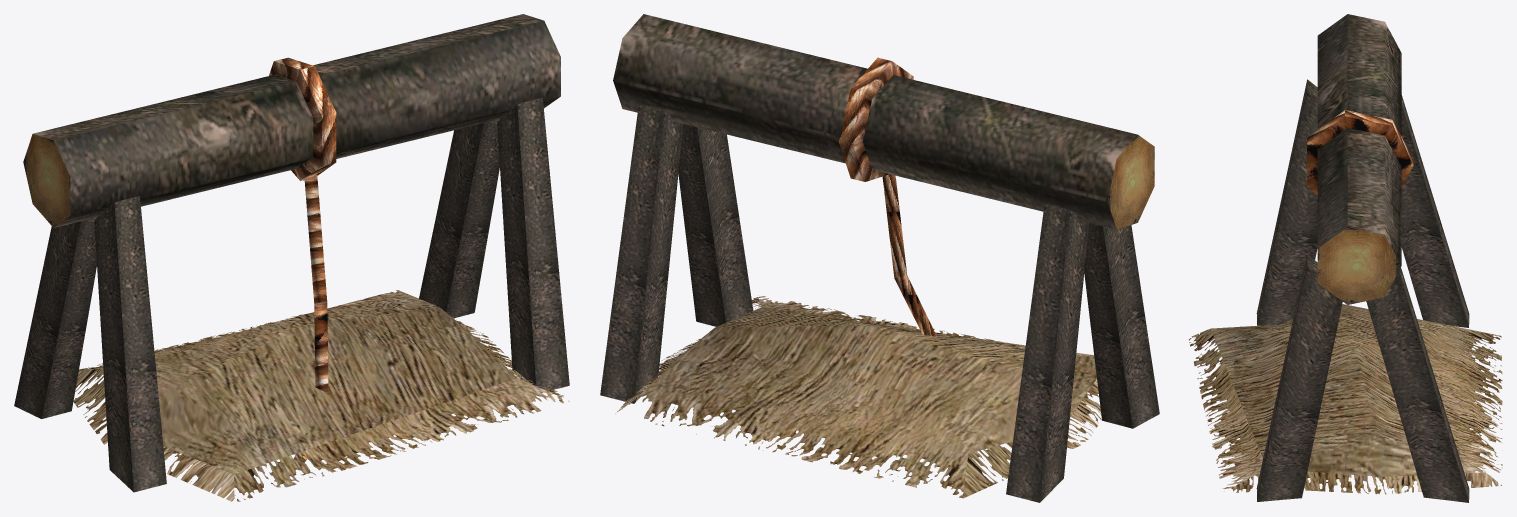
The model's file is building_ox_tether.glb.
The picture shows the model from 3 angles, left to right: view 1: azimuth 30°, elevation 25°; view 2: azimuth 150°, elevation 25°; view 3: azimuth 270°, elevation 25°; orthographic projection. The views are drawn at different scales.
Visible parts, largest first — view 1: building_ox_tether; view 2: building_ox_tether; view 3: building_ox_tether.
Part boxes in pixels (x1=…): building_ox_tether: x1=14, y1=14, x2=569, y2=501; building_ox_tether: x1=600, y1=14, x2=1159, y2=502; building_ox_tether: x1=1189, y1=14, x2=1502, y2=502.
Bounding box in the file's own units: 1.89 × 1.25 × 1.18.
4 materials, 4 textured.
